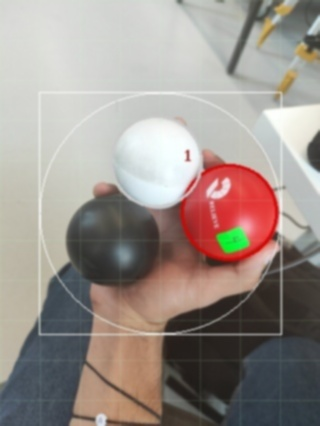Pelota blanca: (111, 116, 203, 211)
Pelota negra: (63, 185, 161, 283)
Pelota roja: (177, 161, 281, 262)
